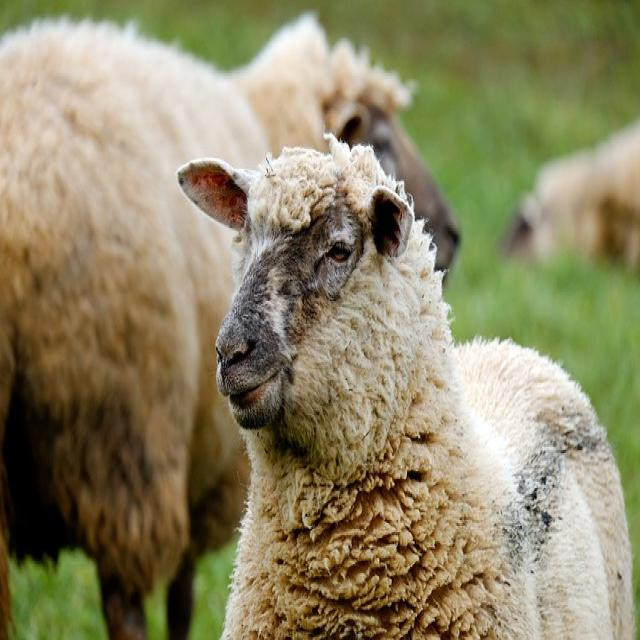goat: (0, 15, 459, 638), (179, 139, 635, 638)
